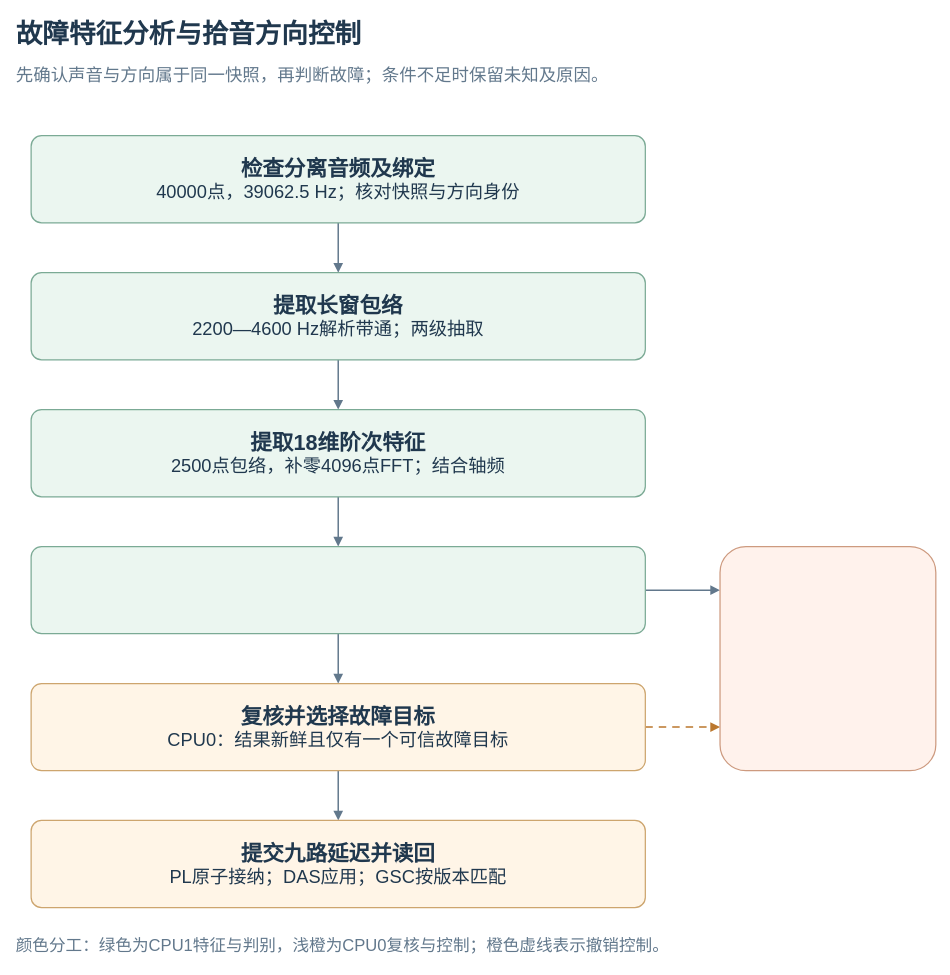
This 950x975 diagram has some shape labels left out. The shapes that lost their labels are listed below. From the top down, each one's centre as x and y in pixels, then its label:
At point (338, 590): "模型检查与未知拒识 核对特征与分离版本、转速及有效频带".
At point (827, 658): "未知或撤销定向 条件不足或无唯一目标 保留原因与显示 重新积累有效证据".
